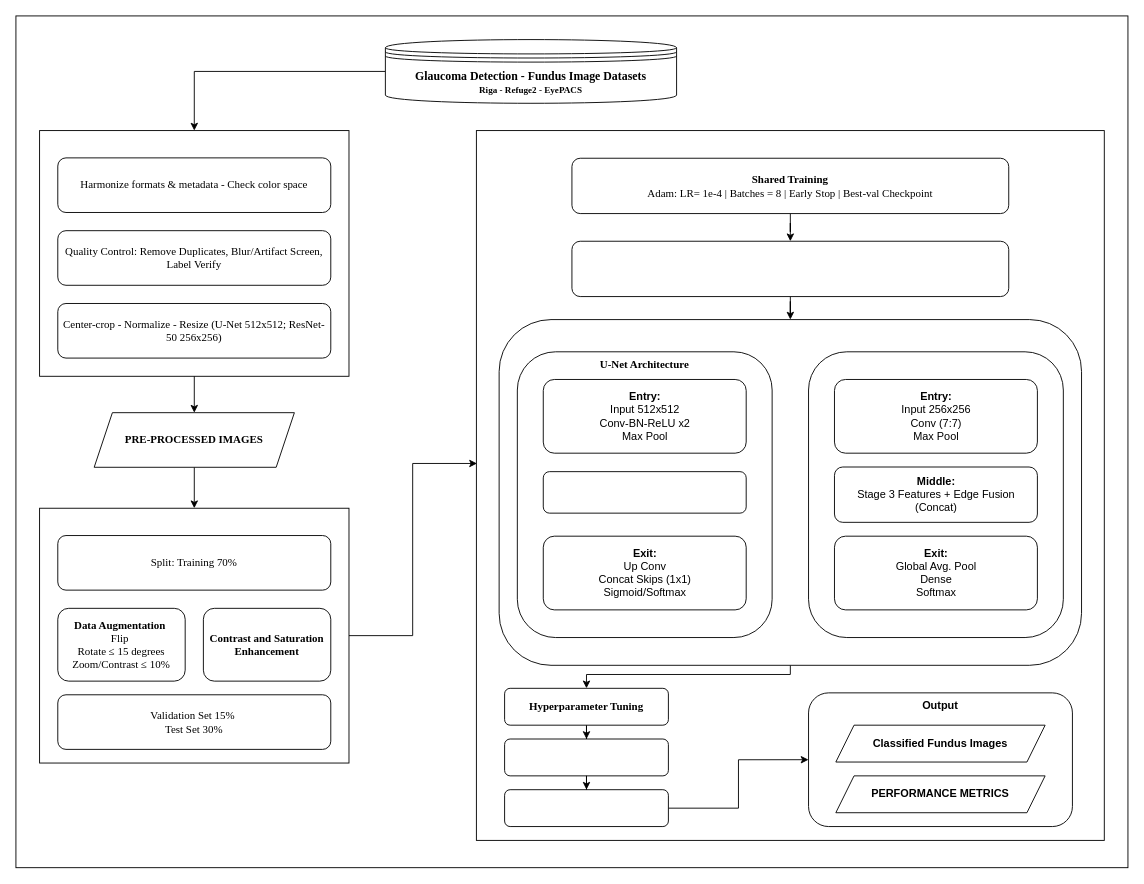
Some shapes in this 1144 by 884 pixel diagram are drawn without their labels. Each missing label, with the box of its shape:
Ablations Base Model (U-Net vs ResNet-50) vs Base Model With Canny: (571, 240, 1009, 297)
Classification of Images: (504, 789, 668, 827)
Classification: Modelling: (475, 130, 1104, 840)
Data Management & Pre-Processing: (39, 130, 349, 376)
Data Splitting & Augmentation: (39, 507, 349, 763)
Middle: Bottleneck + Edge Fusion (Concat): (542, 471, 746, 513)
ResNet-50 Architecture: (808, 351, 1063, 638)
Trained Models: (504, 738, 668, 776)
Training Models: (498, 319, 1082, 665)
